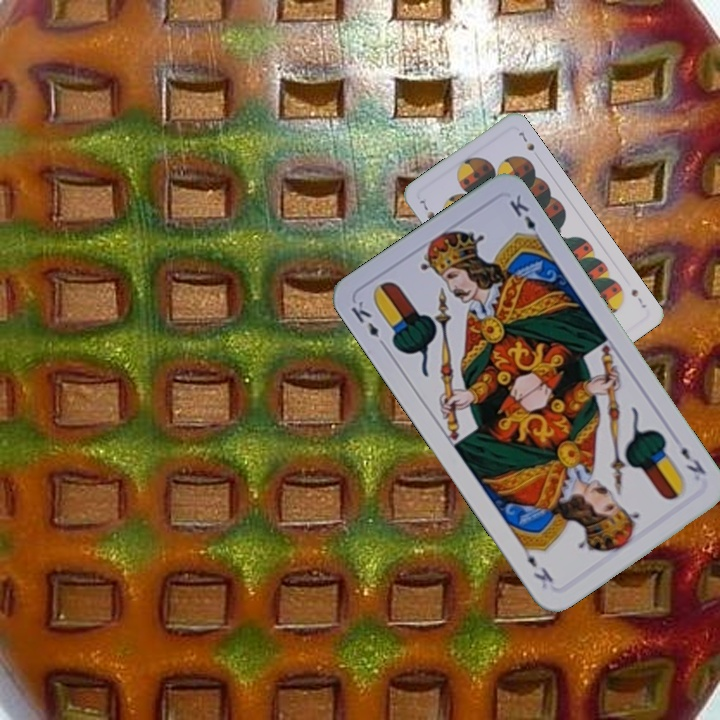EK: (346, 296, 390, 351), (676, 442, 709, 478)
S7: (415, 196, 438, 222), (627, 285, 649, 311)
